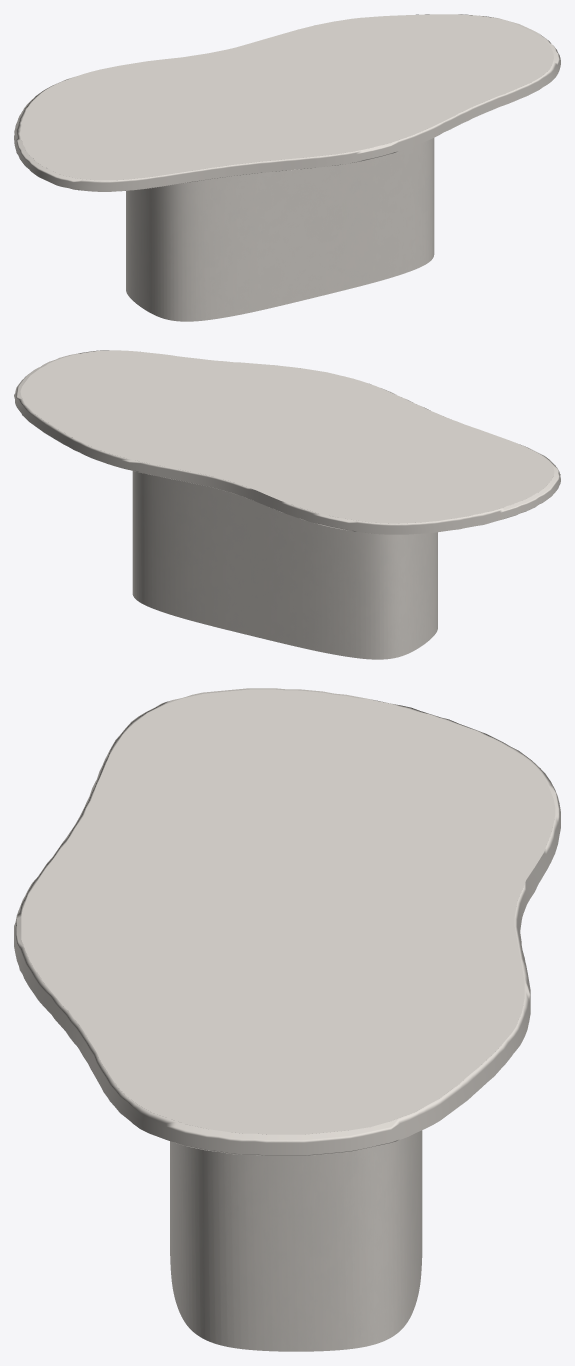
File: pearlwhite_toplast_round_fixed.glb
3 renders of one model, top to bottom at view 1: azimuth 30°, elevation 25°; view 2: azimuth 150°, elevation 25°; view 3: azimuth 270°, elevation 25°, orthographic. The views are drawn at different scales.
Parts seen in each view (by area): view 1: round_toplast, fixed; view 2: round_toplast, fixed; view 3: round_toplast, fixed.
Part boxes in pixels (left/top/right/bottom): round_toplast: left=14, top=14, right=560, bottom=191; fixed: left=126, top=138, right=434, bottom=321; round_toplast: left=14, top=350, right=560, bottom=534; fixed: left=132, top=471, right=437, bottom=659; round_toplast: left=14, top=688, right=560, bottom=1155; fixed: left=170, top=1130, right=422, bottom=1351.
Bounding box in the file's own units: 7.68 × 2.5 × 3.89.
Materials: 1 (1 with a texture image).
